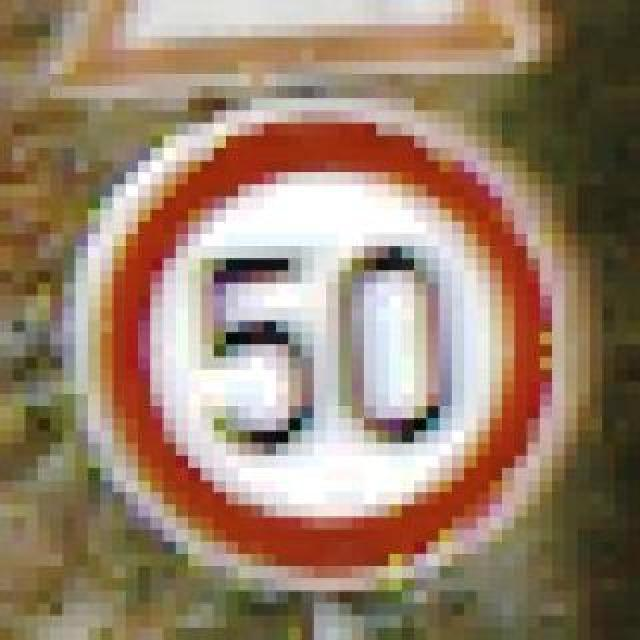50 kph: (64, 74, 566, 566)
